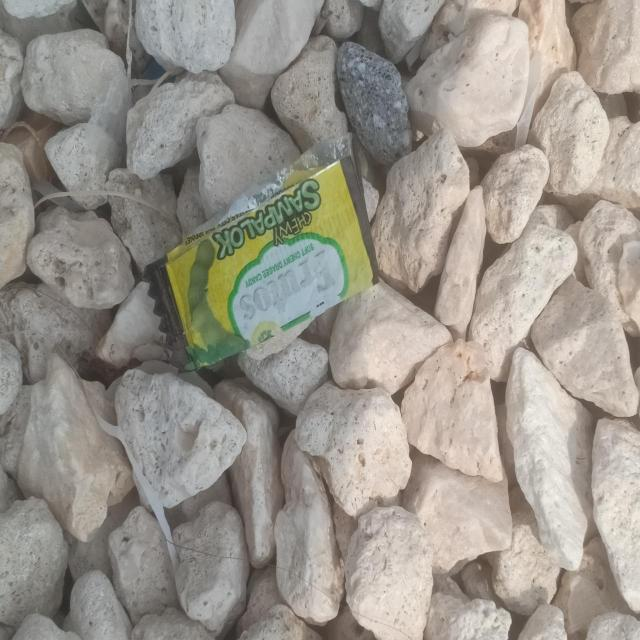plastic_waste: (141, 133, 383, 374)
